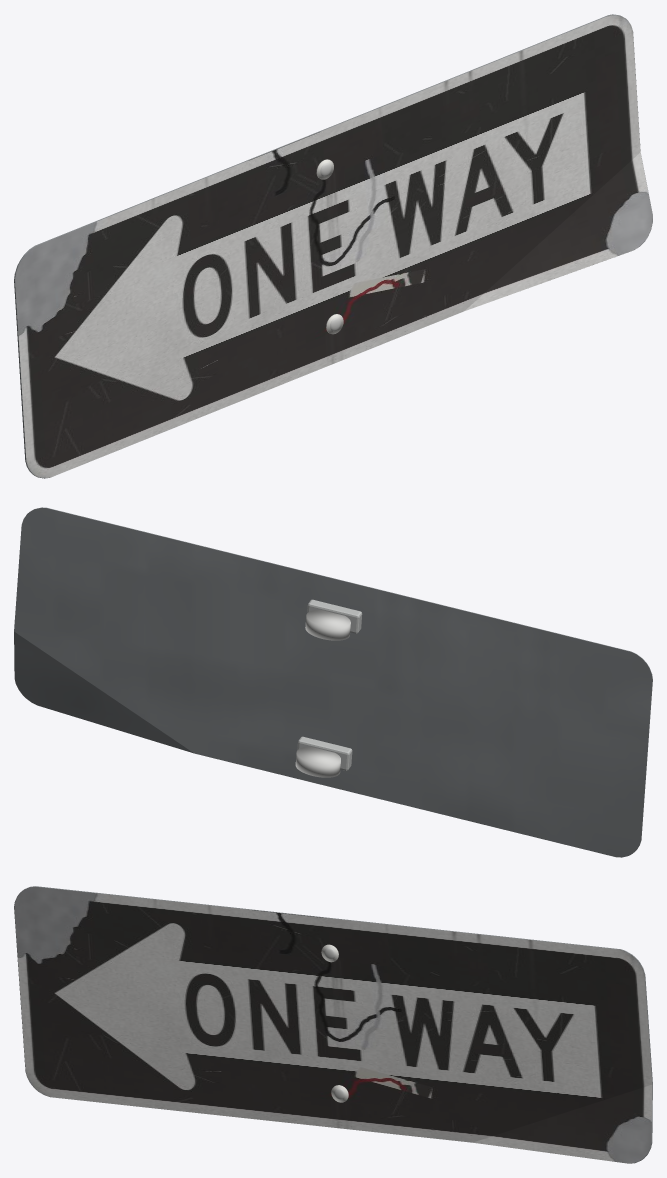
Rendered from oneWayLeft-v1-battered.glb.
3 views of the same model, one above another, from view 1: azimuth 30°, elevation 25°; view 2: azimuth 150°, elevation 25°; view 3: azimuth 330°, elevation 25° (orthographic). The views are drawn at different scales.
Visible parts, largest first — view 1: oneWayLeft-v1-battered; view 2: oneWayLeft-v1-battered; view 3: oneWayLeft-v1-battered.
Boxes of the visible parts, x1=… form: oneWayLeft-v1-battered: x1=14, y1=14, x2=652, y2=478; oneWayLeft-v1-battered: x1=14, y1=507, x2=652, y2=857; oneWayLeft-v1-battered: x1=14, y1=886, x2=652, y2=1163.
Bounding box in the file's own units: 1.22 × 0.4845 × 0.1603.
Materials: 1 (1 with a texture image).
